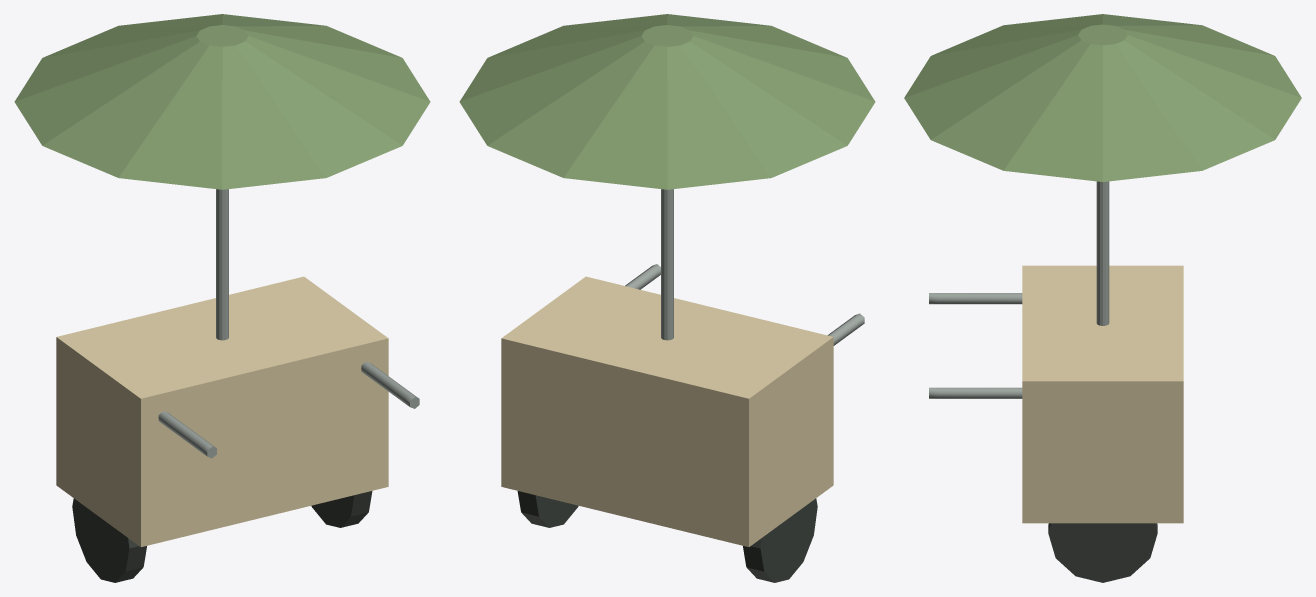
The model's file is ice_cart.glb.
3 renders of one model, left to right at view 1: azimuth 30°, elevation 25°; view 2: azimuth 150°, elevation 25°; view 3: azimuth 270°, elevation 25°, orthographic. The views are drawn at different scales.
Parts seen in each view (by area): view 1: ice-cream-cart; view 2: ice-cream-cart; view 3: ice-cream-cart.
Boxes of the visible parts, x1,y1,x2,y2 form: ice-cream-cart: (14,14,430,582); ice-cream-cart: (459,14,875,582); ice-cream-cart: (904,14,1301,582).
Size of the model in its own units: 1.6 by 2.18 by 1.6.
